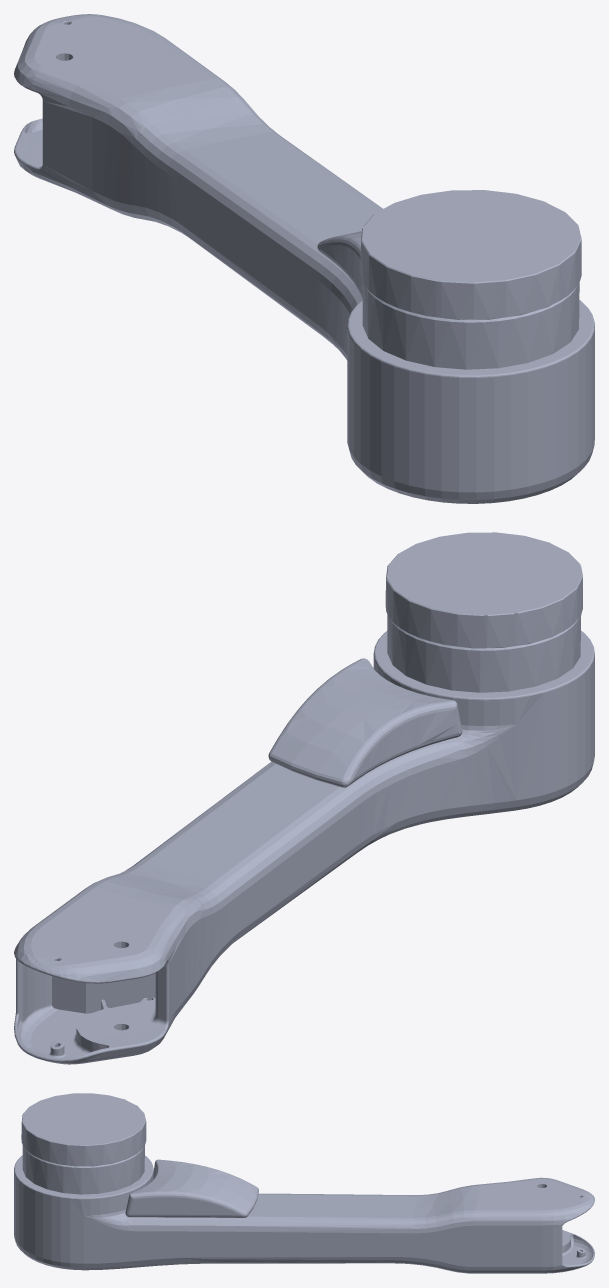
The model's file is right_hip_pitch_link.obj.
3 renders of one model, top to bottom at view 1: azimuth 30°, elevation 25°; view 2: azimuth 150°, elevation 25°; view 3: azimuth 270°, elevation 25°, orthographic. The views are drawn at different scales.
Parts seen in each view (by area): view 1: right_hip_pitch_link-mesh; view 2: right_hip_pitch_link-mesh; view 3: right_hip_pitch_link-mesh.
Boxes of the visible parts, box(x1,y1,x2,y2) form: right_hip_pitch_link-mesh: box(14, 14, 594, 503); right_hip_pitch_link-mesh: box(14, 532, 594, 1064); right_hip_pitch_link-mesh: box(14, 1093, 594, 1273).
Bounding box in the file's own units: 0.1219 × 0.1244 × 0.5069.
